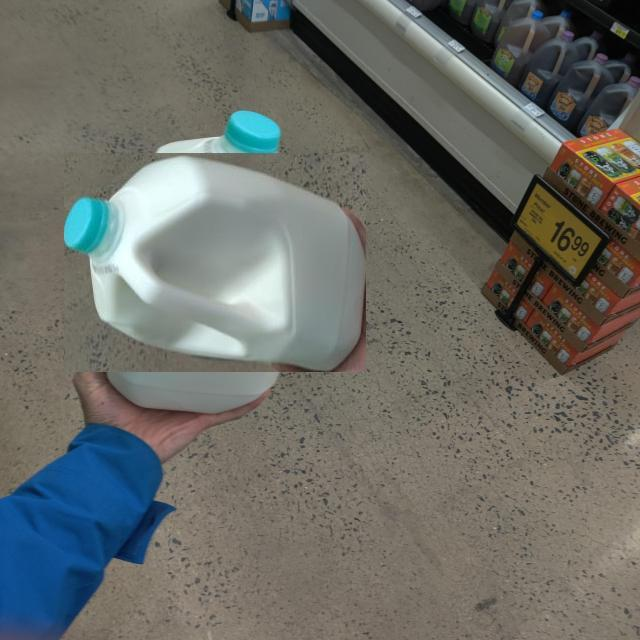Milk: (64, 152, 366, 372)
